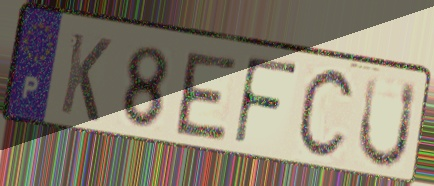8: (120, 43, 174, 131)
C: (292, 64, 358, 165)
E: (174, 50, 240, 145)
F: (231, 53, 302, 152)
K: (57, 29, 114, 126)
U: (354, 72, 420, 171)
